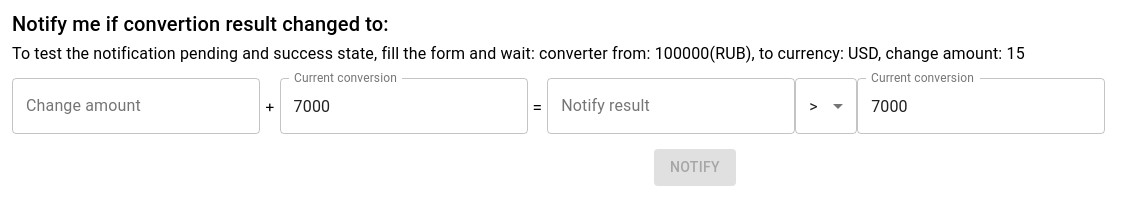
it: NotifierForm when change condition operator should change expression operator
Select "<" in the dropdown with test id "notifier-condition-operator". click: [826, 106]
box: top-left (795, 78), bottom-right (857, 134)
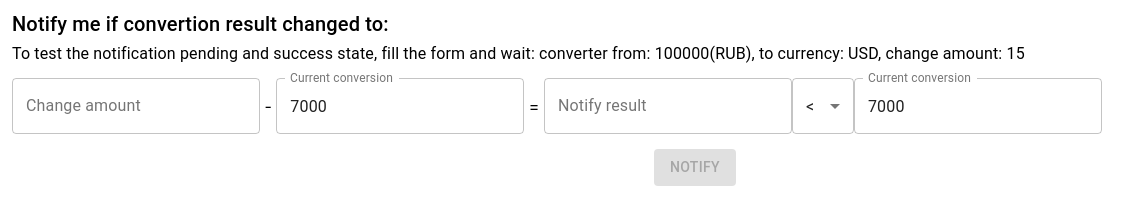
Now the text with test id "notifier-expr-operator" reads "-", box top-left (260, 96), bottom-right (276, 116)
